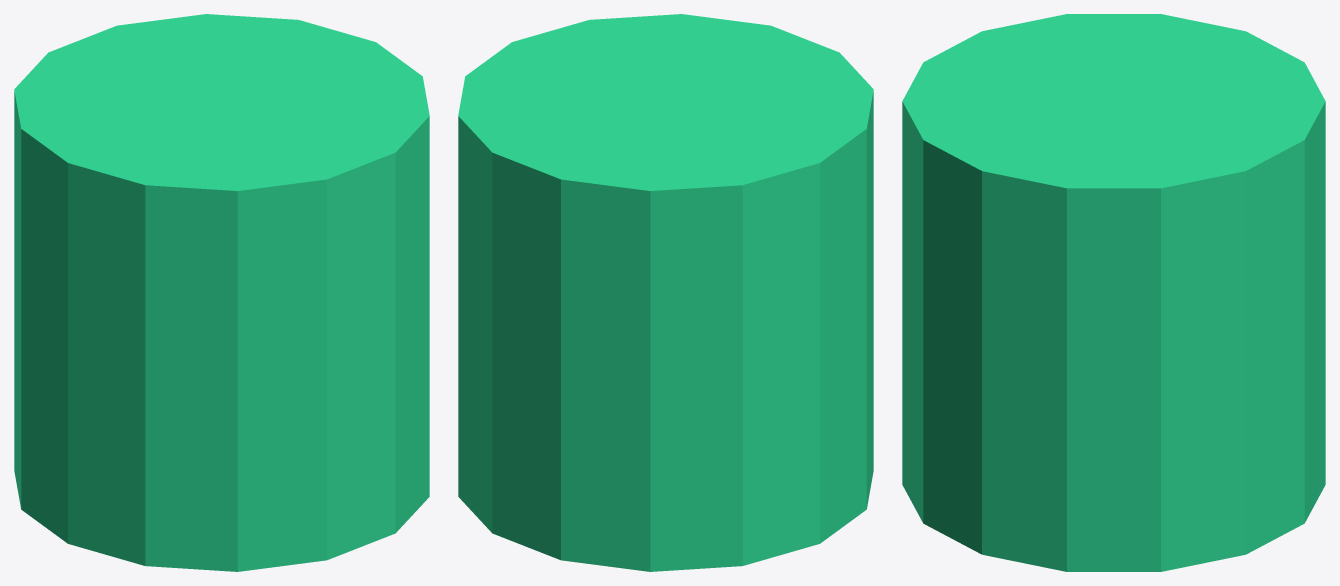
File: CylinderChar.fbx
3 views of the same model, side by side, from view 1: azimuth 30°, elevation 25°; view 2: azimuth 150°, elevation 25°; view 3: azimuth 270°, elevation 25° (orthographic).
Parts seen in each view (by area): view 1: Cylinder; view 2: Cylinder; view 3: Cylinder.
Boxes of the visible parts, x1,y1,x2,y2 form: Cylinder: [14, 14, 429, 571]; Cylinder: [458, 14, 873, 571]; Cylinder: [902, 14, 1325, 571].
Size of the model in its own units: 195 by 200 by 200.
